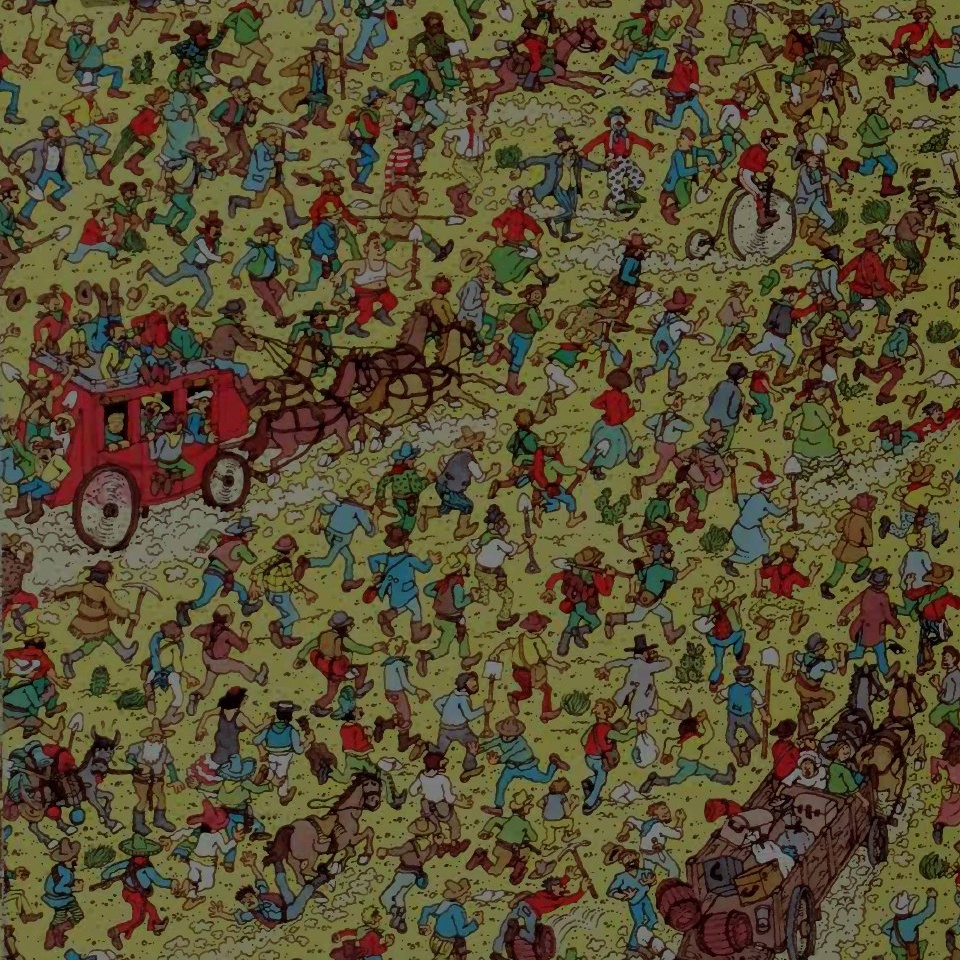waldo: (383, 119, 416, 190)
